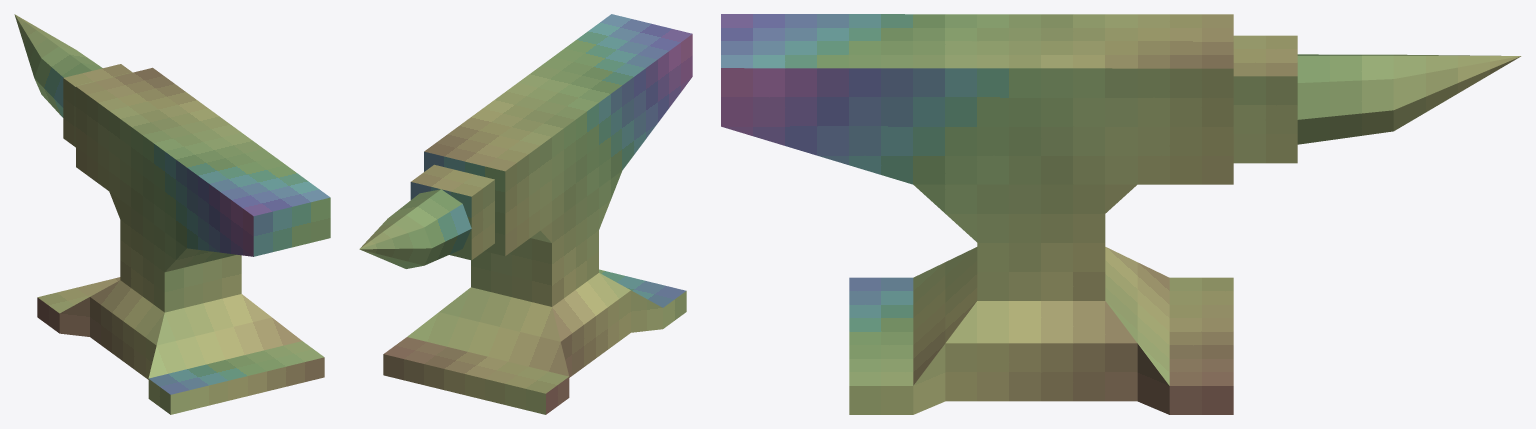
The model's file is anvil_bismuth.obj.
The picture shows the model from 3 angles, left to right: view 1: azimuth 30°, elevation 25°; view 2: azimuth 150°, elevation 25°; view 3: azimuth 270°, elevation 25°; orthographic projection. The views are drawn at different scales.
Parts seen in each view (by area): view 1: Left, Top, Back; view 2: Left, Top, Front; view 3: Right, Top, Front, Back.
Boxes of the visible parts, left/top/right/bottom form: Left: left=15, top=15, right=253, bottom=414; Top: left=14, top=14, right=330, bottom=394; Back: left=148, top=197, right=330, bottom=414; Left: left=360, top=34, right=692, bottom=414; Top: left=360, top=14, right=692, bottom=393; Front: left=383, top=151, right=569, bottom=414; Right: left=721, top=56, right=1520, bottom=414; Top: left=721, top=14, right=1520, bottom=385; Front: left=1105, top=247, right=1169, bottom=385; Back: left=913, top=247, right=977, bottom=385.
Bounding box in the file's own units: 0.5 × 0.6885 × 1.56.
